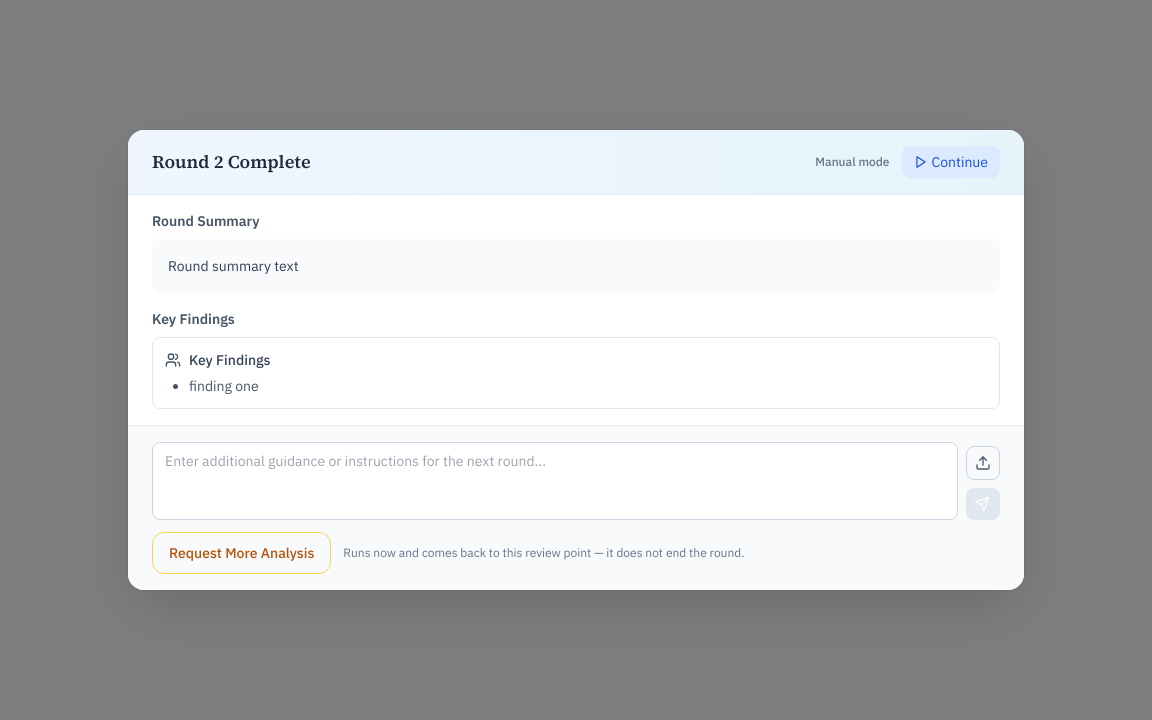
Test: RoundFeedbackDialog supplementary analysis › submits a round-target supplementary request without ending the round
The image size is (1152, 720).
Click the button "Request More Analysis" at x=242, y=553, box [152,532,331,574]
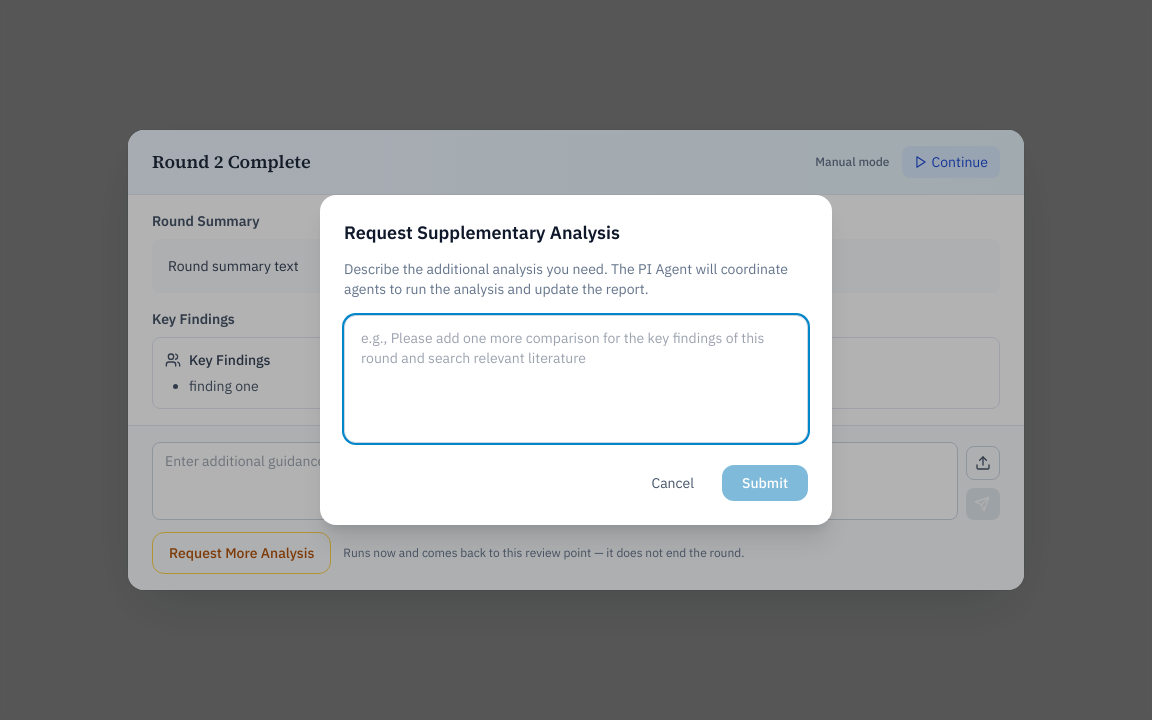
Replace the text in the text box with placeholder "one more comparison" with "compare the two groups again" at x=576, y=379, box [344,315,808,443]
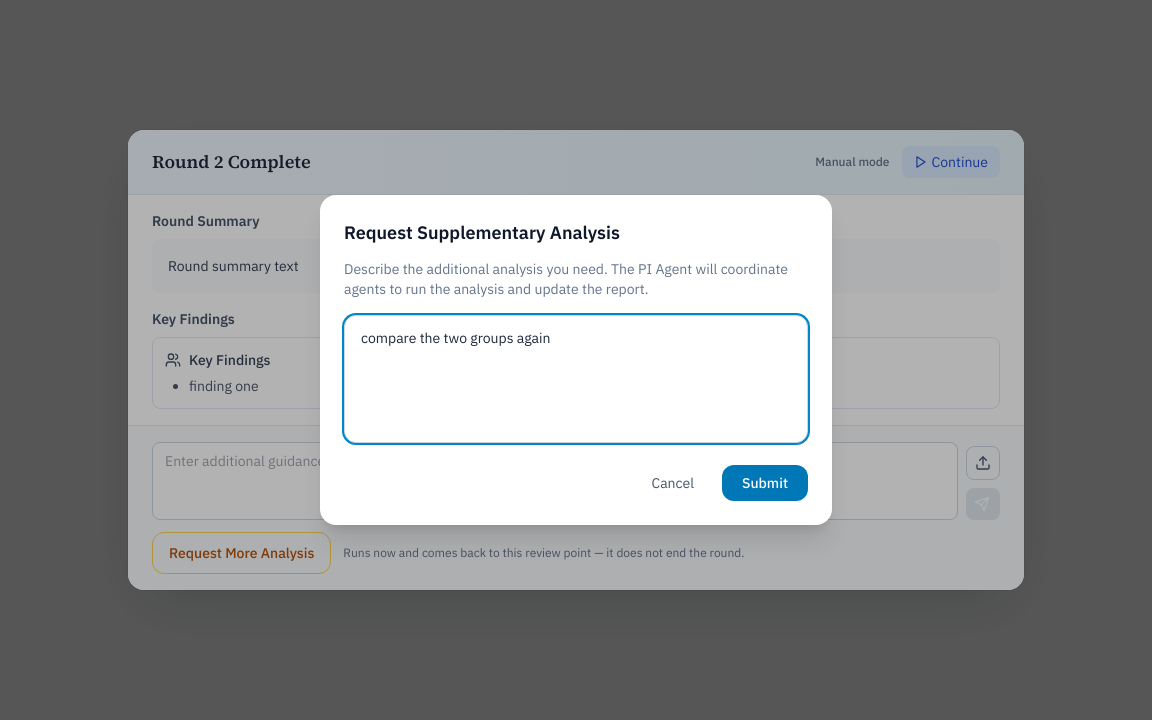
Click the button "Submit" at x=765, y=483, box [722,465,808,501]
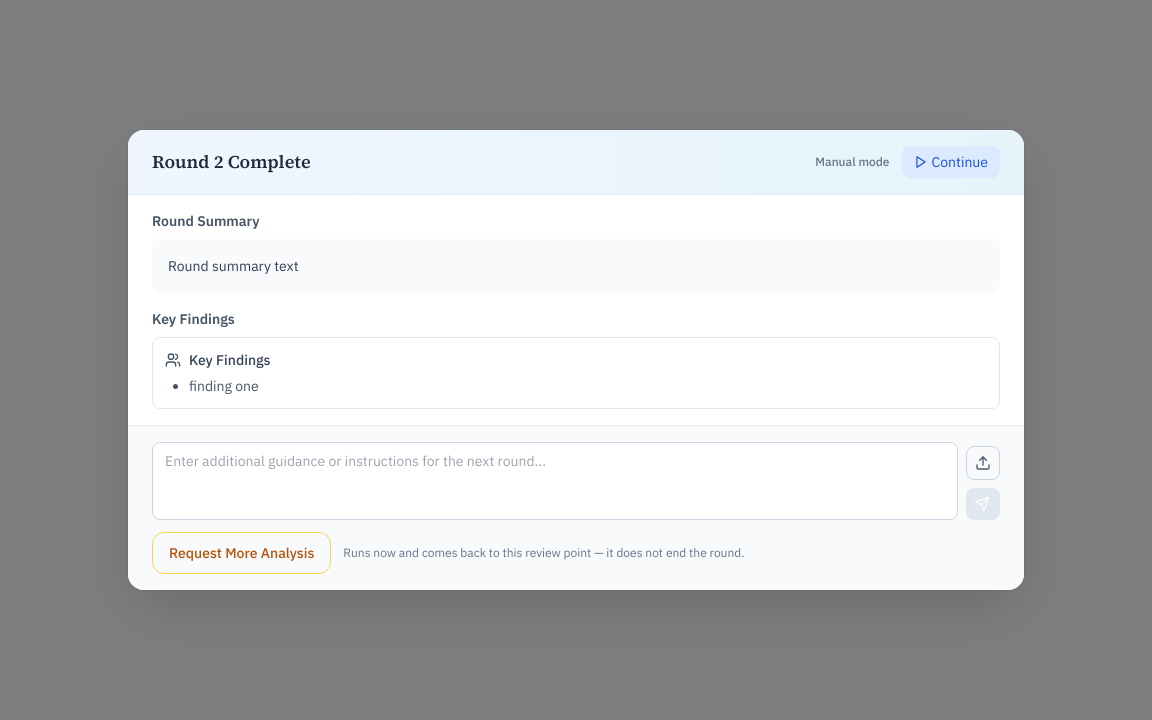
Expected: the button "Request More Analysis" is enabled, [152,532,331,574]
Now the button "Submit" is gone
